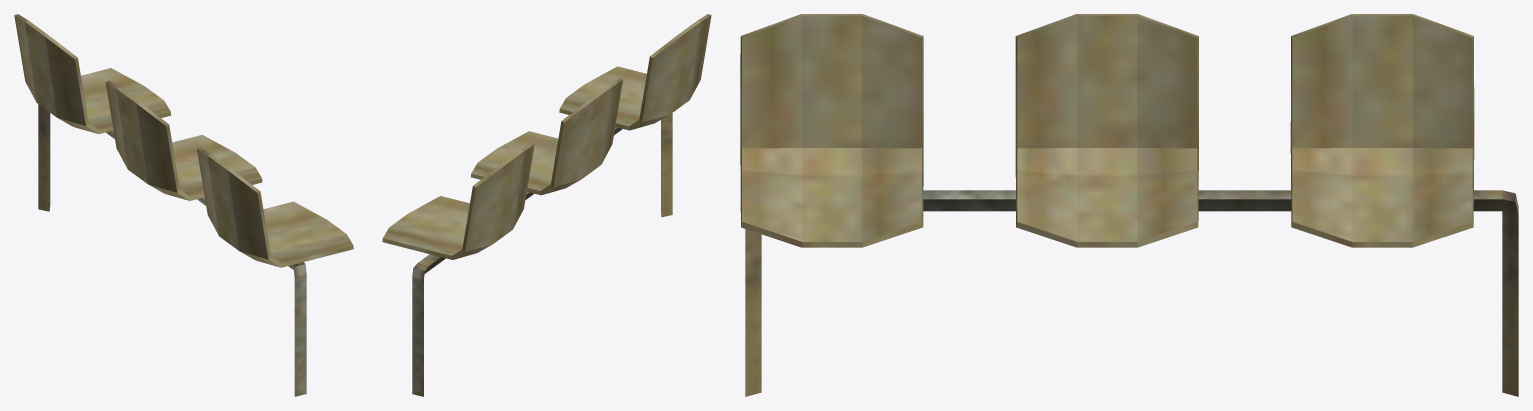
Rendered from Urban_BusstopThreeSeatsAlt4_Model.fbx.
3 renders of one model, left to right at view 1: azimuth 30°, elevation 25°; view 2: azimuth 150°, elevation 25°; view 3: azimuth 270°, elevation 25°, orthographic. The views are drawn at different scales.
Parts seen in each view (by area): view 1: Urban_BusstopThreeSeatsAlt4_Mesh; view 2: Urban_BusstopThreeSeatsAlt4_Mesh; view 3: Urban_BusstopThreeSeatsAlt4_Mesh.
Part boxes in pixels (x1,y1,x2,y2): Urban_BusstopThreeSeatsAlt4_Mesh: (14, 14, 353, 396); Urban_BusstopThreeSeatsAlt4_Mesh: (382, 14, 711, 396); Urban_BusstopThreeSeatsAlt4_Mesh: (740, 14, 1518, 396).
Bounding box in the file's own units: 0.692 × 1.25 × 2.6.
